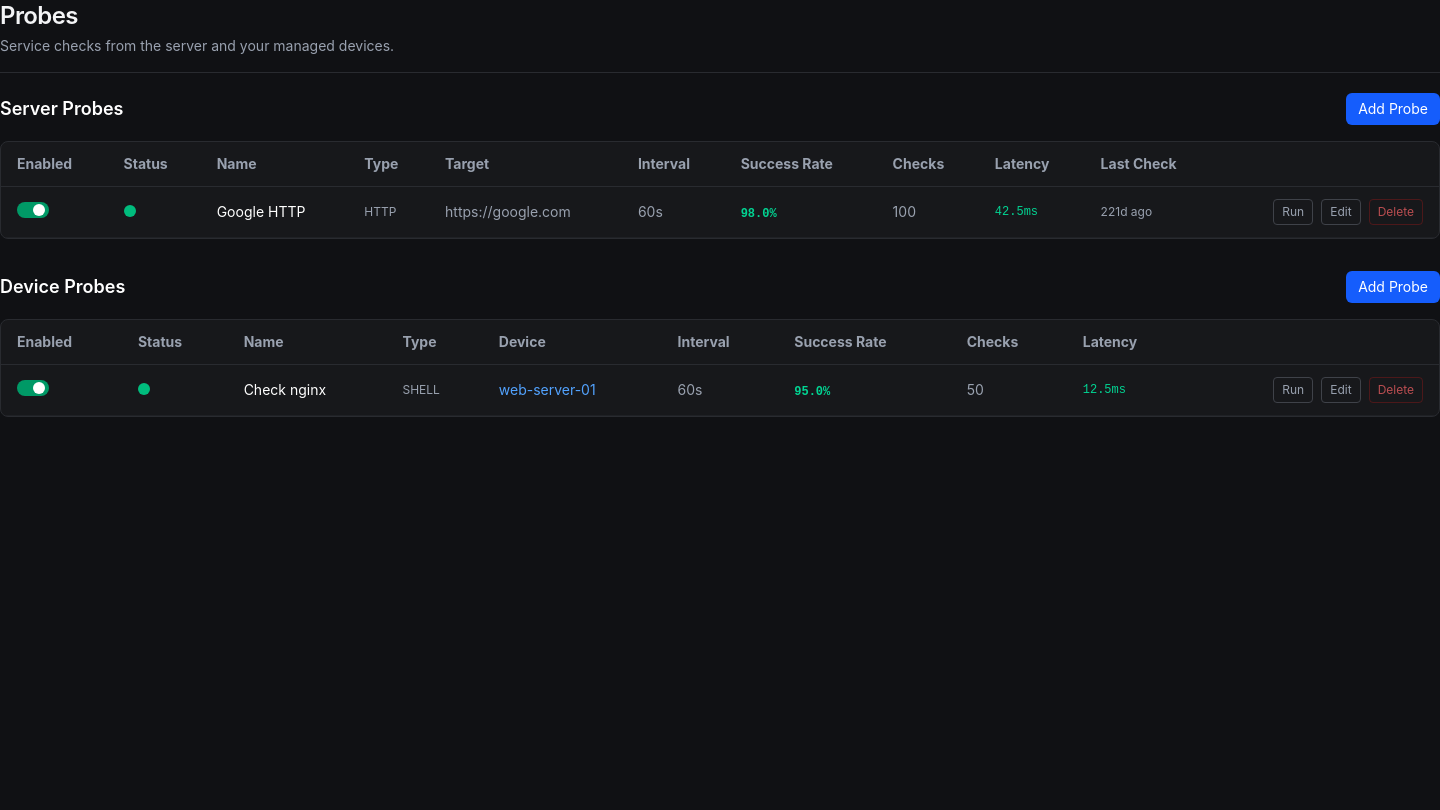
Scenario: [AC-002] Add Probe in Server Probes section opens ProbeModal › clicking the first Add Probe button opens the server probe creation modal
Expected: the heading "Server Probes" is shown, [0,95,123,123]
Click the button "Add Probe" in the row of "Server Probes".
click(1393, 109)  # box [1346,93,1439,125]
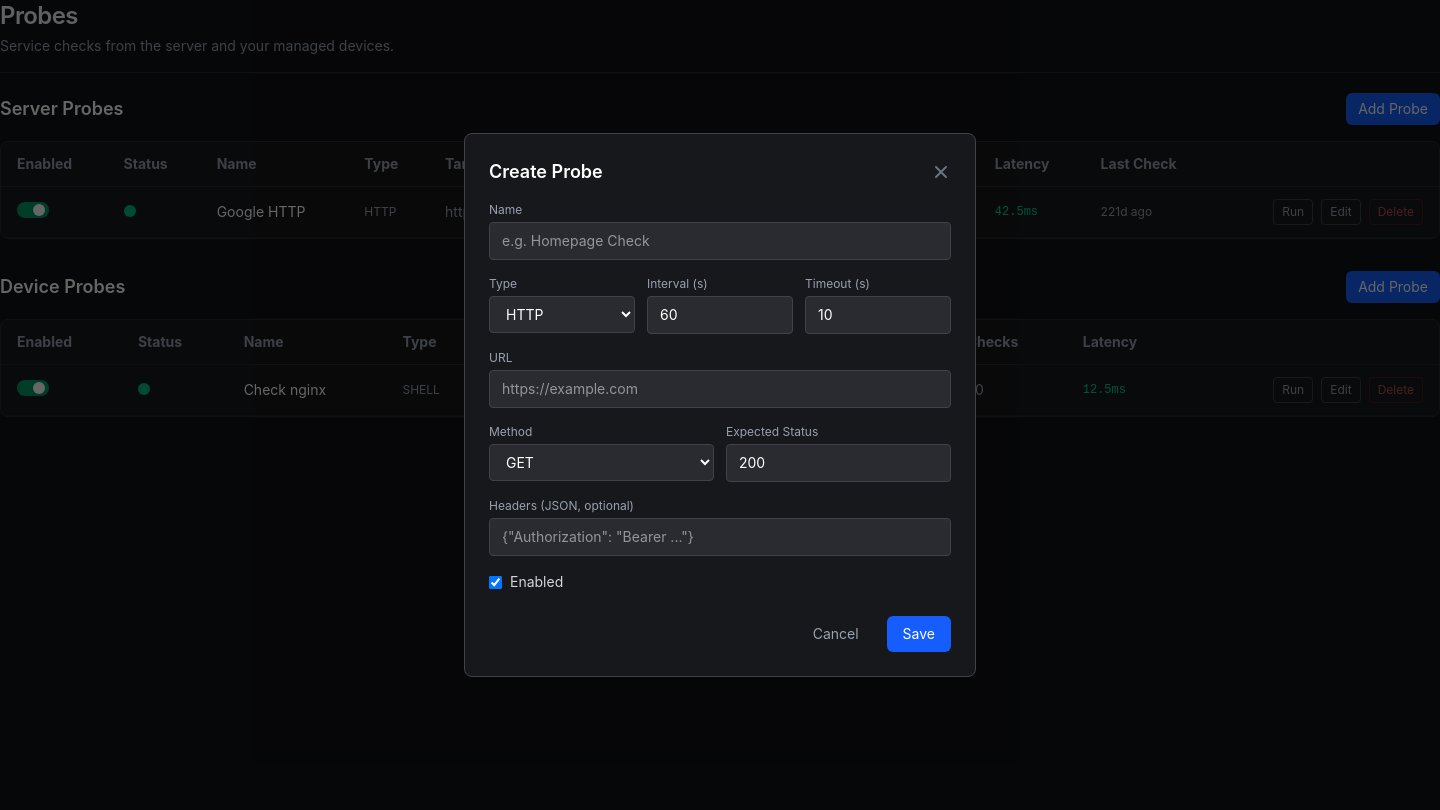
Expected: the heading "Create Probe" is shown, [489,158,603,186]
